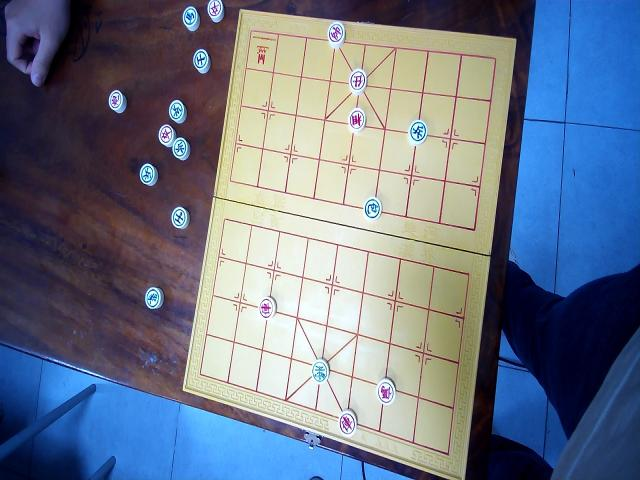piece: (375, 377, 395, 405), (326, 20, 346, 47), (408, 118, 428, 145), (337, 409, 357, 435), (362, 196, 382, 221), (348, 67, 366, 94), (139, 162, 158, 186), (144, 286, 162, 311), (192, 48, 210, 73), (182, 5, 200, 30), (171, 206, 189, 230), (168, 98, 185, 123), (348, 106, 364, 132), (158, 123, 176, 146), (108, 89, 125, 113), (311, 359, 328, 383), (206, 0, 223, 23), (258, 295, 275, 318), (172, 137, 188, 160)
